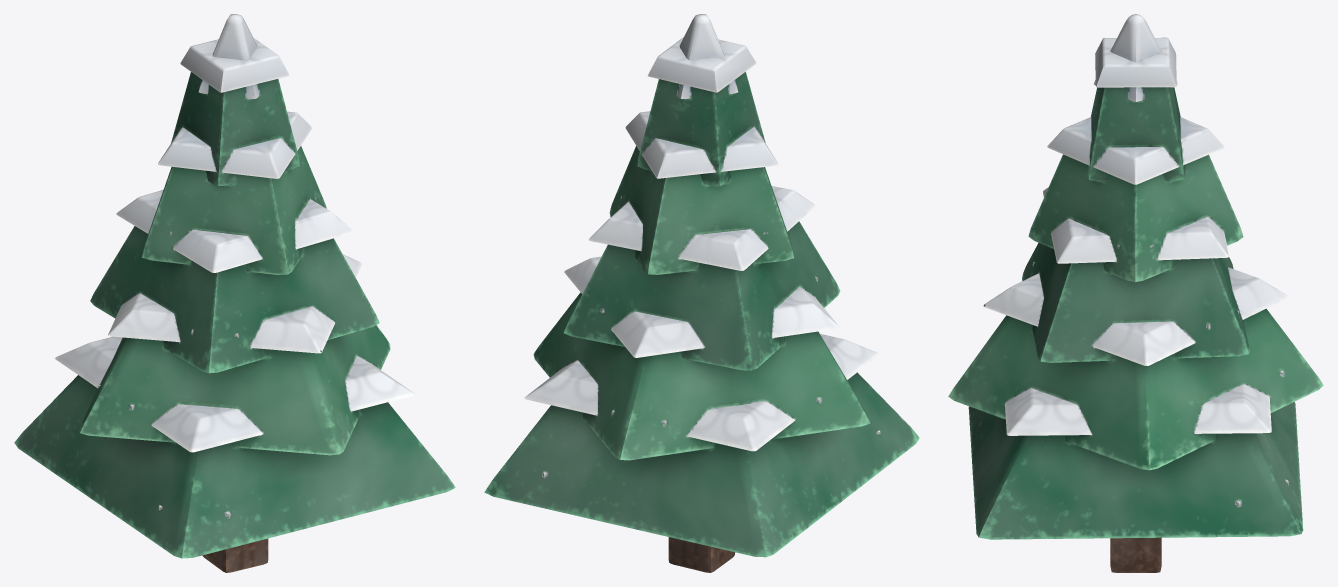
The model's file is Glace_Sapin.fbx.
3 views of the same model, side by side, from view 1: azimuth 30°, elevation 25°; view 2: azimuth 150°, elevation 25°; view 3: azimuth 270°, elevation 25° (orthographic).
Visible parts, largest first — view 1: Glace_Sapin; view 2: Glace_Sapin; view 3: Glace_Sapin.
Boxes of the visible parts, x1,y1,x2,y2 form: Glace_Sapin: [14, 14, 455, 572]; Glace_Sapin: [484, 14, 919, 572]; Glace_Sapin: [948, 14, 1323, 572].
Size of the model in its own units: 879 by 1414 by 879.
1 material, 1 textured.
